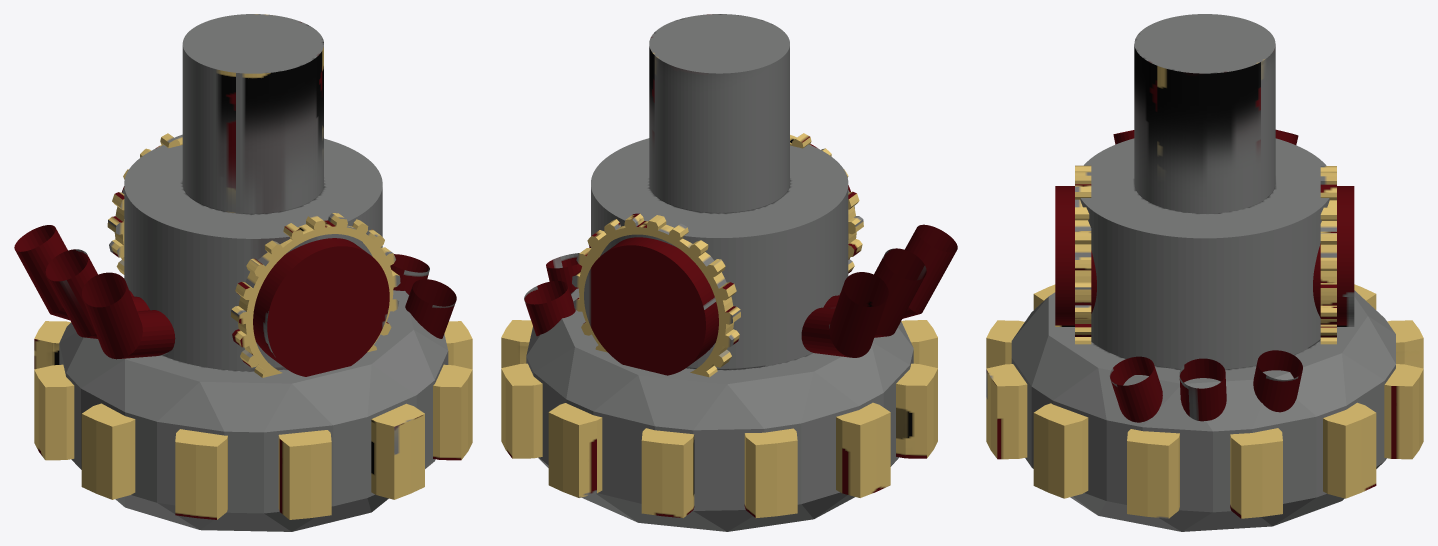
File: turret_base 1.fbx
The picture shows the model from 3 angles, left to right: view 1: azimuth 30°, elevation 25°; view 2: azimuth 150°, elevation 25°; view 3: azimuth 270°, elevation 25°; orthographic projection.
Visible parts, largest first — view 1: turret base.002; view 2: turret base.002; view 3: turret base.002.
Part boxes in pixels (x1,y1,x2,y2): turret base.002: (14,14,472,531); turret base.002: (501,14,957,531); turret base.002: (986,14,1423,531).
Size of the model in its own units: 225 by 230 by 217.
1 material, 1 textured.
